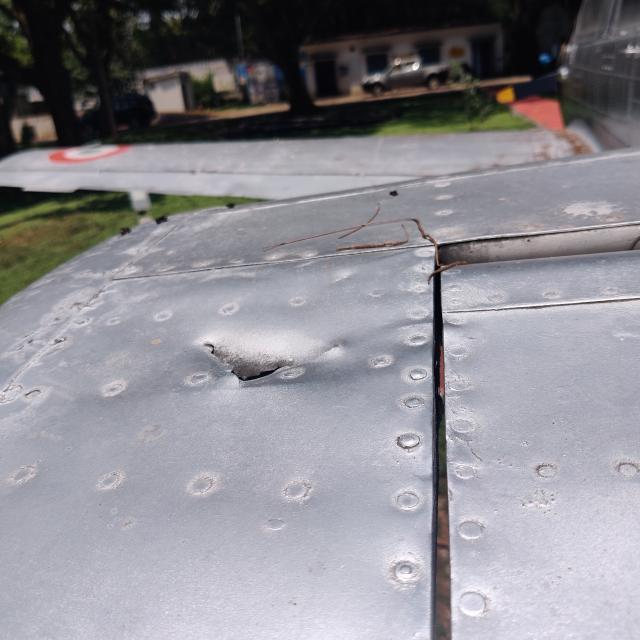Crack: (196, 327, 332, 388)
